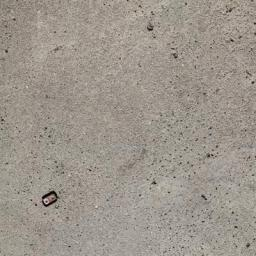FOD: (41, 187, 63, 211)
